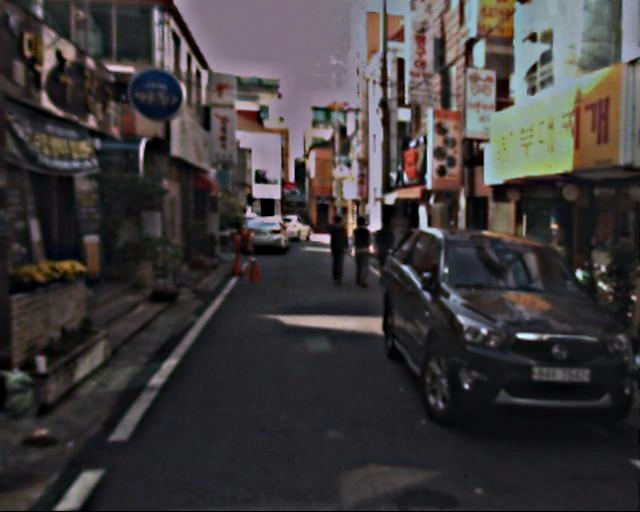person: (346, 216, 376, 289), (322, 214, 351, 285), (369, 218, 396, 285)
